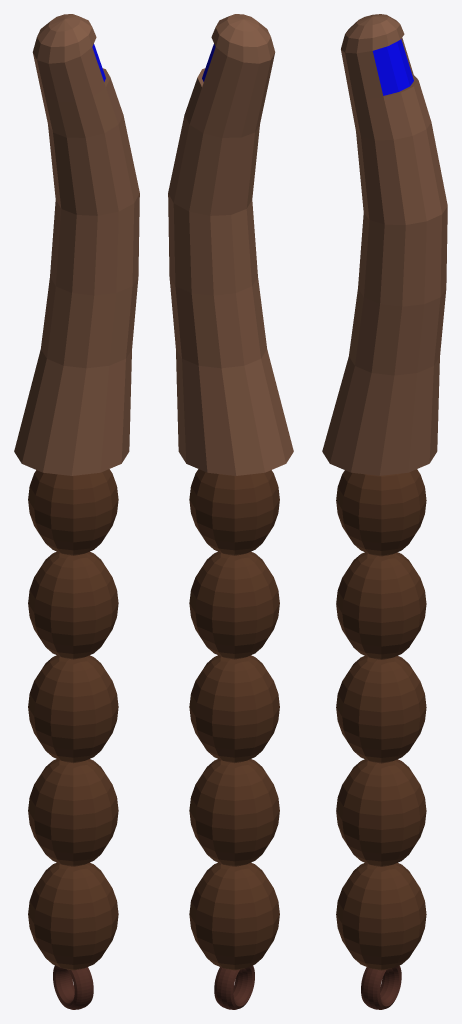
File: Wand 241.glb
3 views of the same model, side by side, from view 1: azimuth 30°, elevation 25°; view 2: azimuth 150°, elevation 25°; view 3: azimuth 330°, elevation 25° (orthographic).
Parts seen in each view (by area): view 1: GeneratedWand; view 2: GeneratedWand; view 3: GeneratedWand.
Part boxes in pixels (left/top/right/bottom): GeneratedWand: left=14, top=14, right=139, bottom=1009; GeneratedWand: left=168, top=14, right=293, bottom=1009; GeneratedWand: left=322, top=14, right=447, bottom=1009.
Size of the model in its own units: 0.0644 by 0.5418 by 0.0572.
